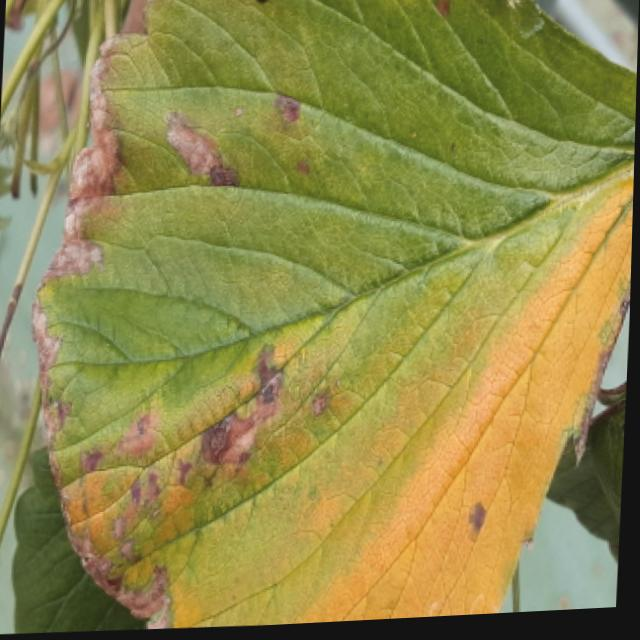Angular Leafspot: (32, 0, 638, 631)
